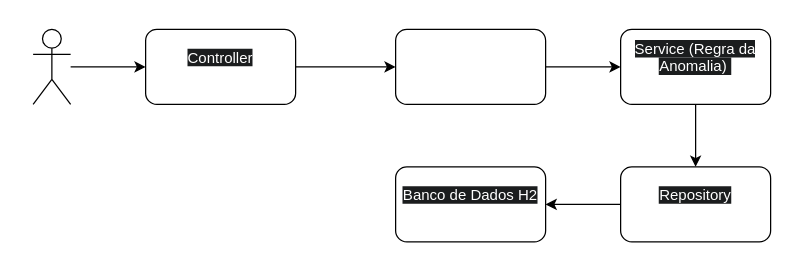
Image size: 793x264. Some labels were removed from this diagram. Each missing label, with the centre of its shape:
"DTO" belongs at (x=470, y=66).
"Postman (Cliente)" belongs at (x=51, y=66).
